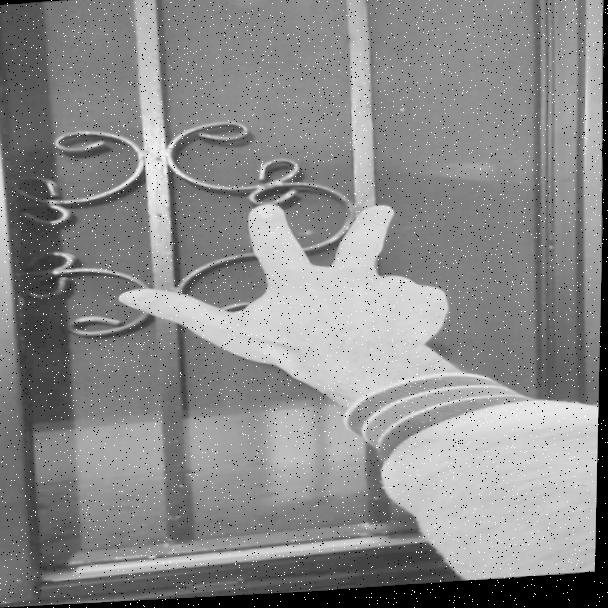three: (102, 195, 445, 401)
